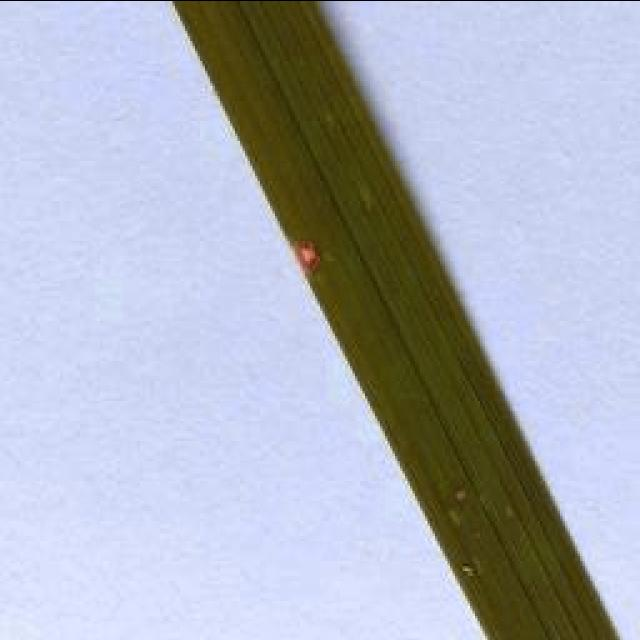Unhealthy: (287, 238, 323, 278), (452, 487, 469, 505)
